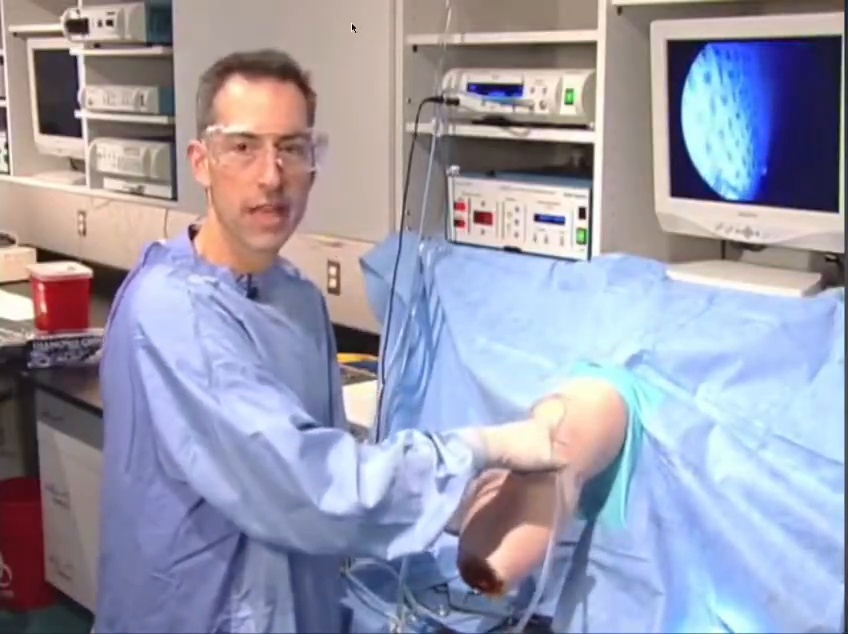probe: (680, 580, 765, 634)
